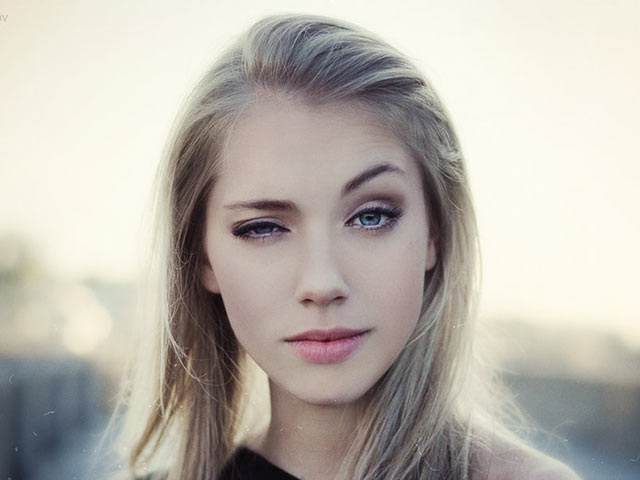person: (138, 24, 538, 447)
